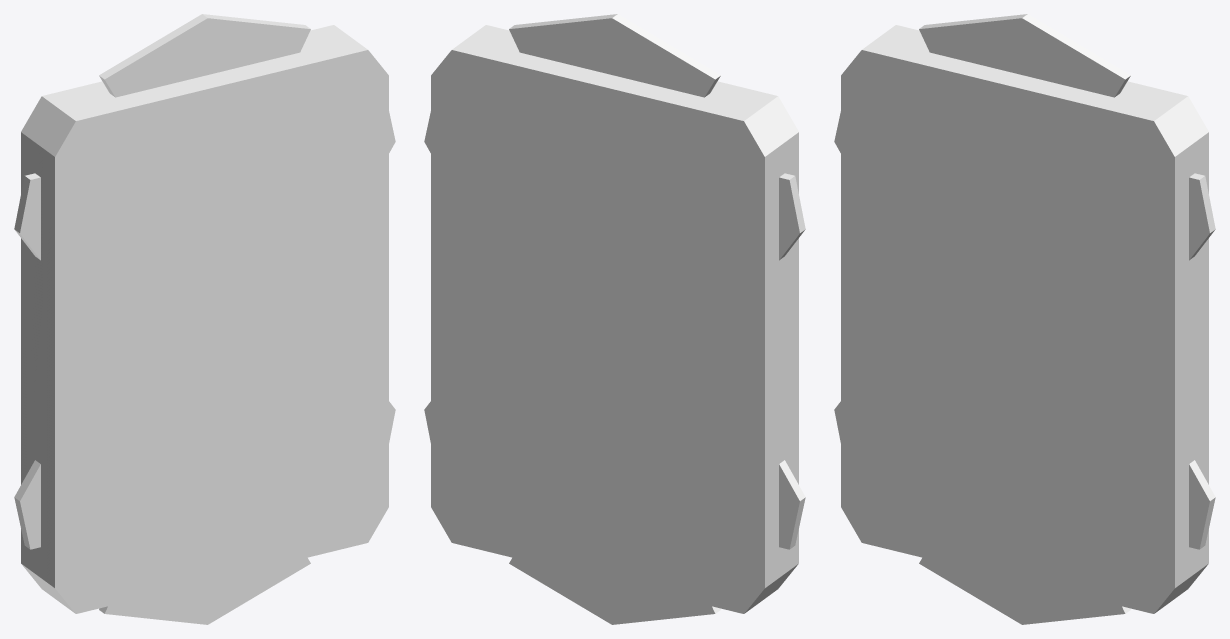
File: cardRare.fbx
3 renders of one model, left to right at view 1: azimuth 30°, elevation 25°; view 2: azimuth 150°, elevation 25°; view 3: azimuth 330°, elevation 25°, orthographic.
Parts seen in each view (by area): view 1: emission; view 2: emission; view 3: emission.
Part boxes in pixels (box(x1,y1,x2,y2)): emission: box(14, 14, 395, 624); emission: box(424, 14, 805, 624); emission: box(834, 14, 1215, 624).
Size of the model in its own units: 119 by 183 by 18.75.
1 material, 1 textured.
